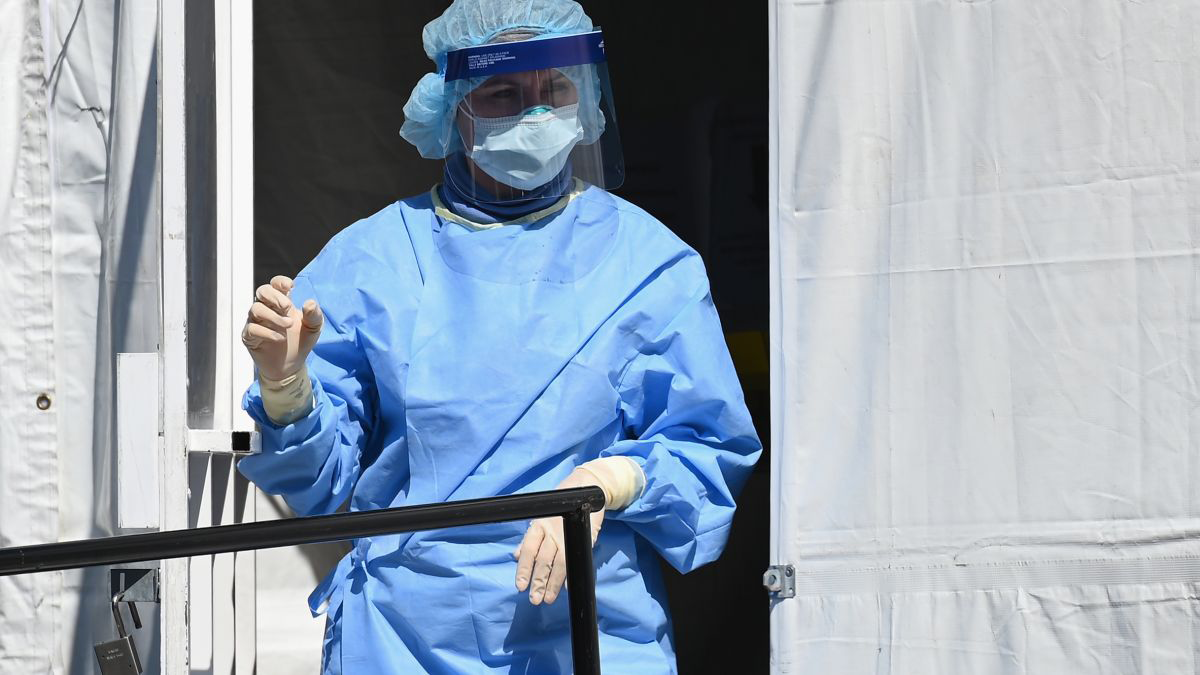Coverall: (240, 188, 759, 673)
Face_Shield: (436, 31, 637, 226)
Gloves: (511, 451, 639, 607), (238, 274, 335, 434)
with_mask: (468, 88, 582, 191)
